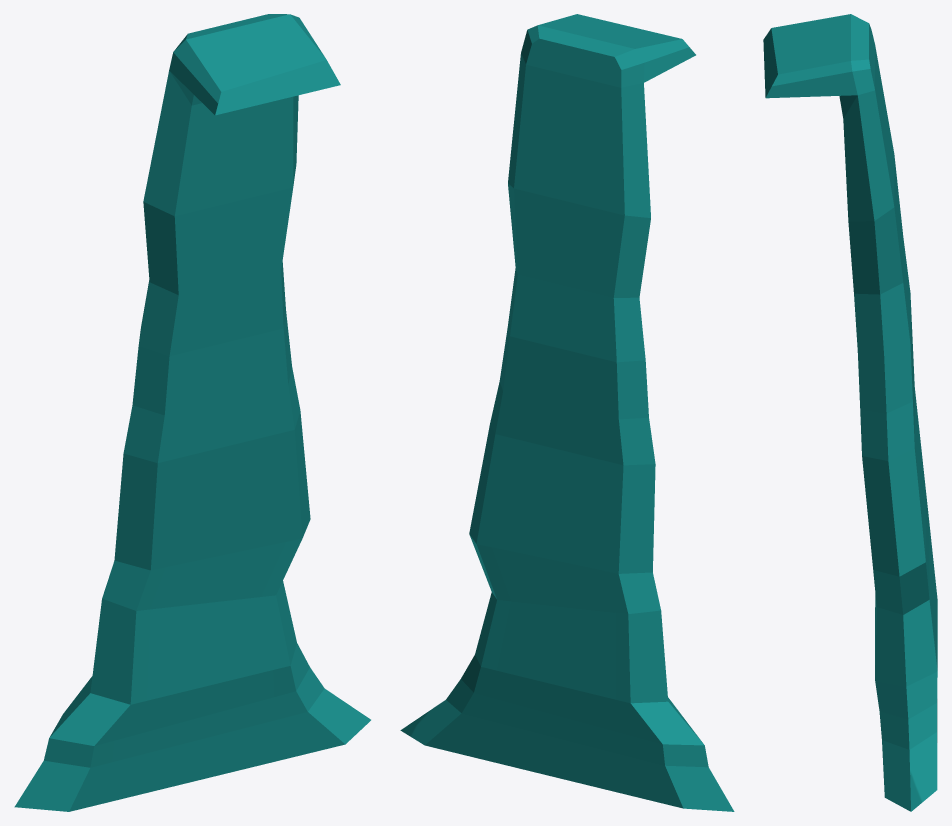
File: CascadaAnimada_000013.obj
3 views of the same model, side by side, from view 1: azimuth 30°, elevation 25°; view 2: azimuth 150°, elevation 25°; view 3: azimuth 270°, elevation 25° (orthographic). The views are drawn at different scales.
Visible parts, largest first — view 1: Cube.053, Cube.054; view 2: Cube.053, Cube.054; view 3: Cube.053, Cube.054.
Part boxes in pixels (x1,y1,x2,y2): Cube.053: [14, 14, 370, 811]; Cube.054: [169, 14, 340, 115]; Cube.053: [400, 25, 734, 811]; Cube.054: [538, 14, 695, 82]; Cube.053: [839, 14, 937, 811]; Cube.054: [763, 14, 857, 98].
Bounding box in the file's own units: 136 × 277 × 62.26.
